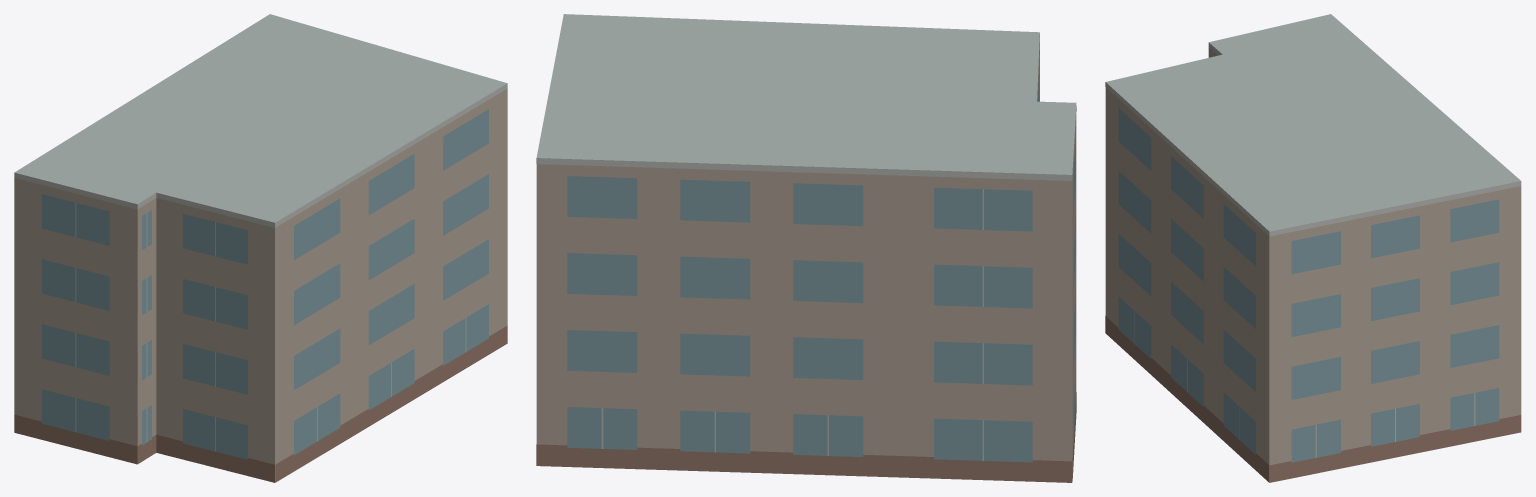
File: survey-upis-32800764.glb
3 renders of one model, left to right at view 1: azimuth 30°, elevation 25°; view 2: azimuth 150°, elevation 25°; view 3: azimuth 270°, elevation 25°, orthographic. The views are drawn at different scales.
Parts seen in each view (by area): view 1: survey-upis-32800764.tmp; view 2: survey-upis-32800764.tmp; view 3: survey-upis-32800764.tmp.
Part boxes in pixels (x1,y1,x2,y2): survey-upis-32800764.tmp: [14, 14, 507, 482]; survey-upis-32800764.tmp: [536, 14, 1076, 482]; survey-upis-32800764.tmp: [1105, 14, 1521, 482].
Size of the model in its own units: 23.04 by 12.4 by 18.61.
